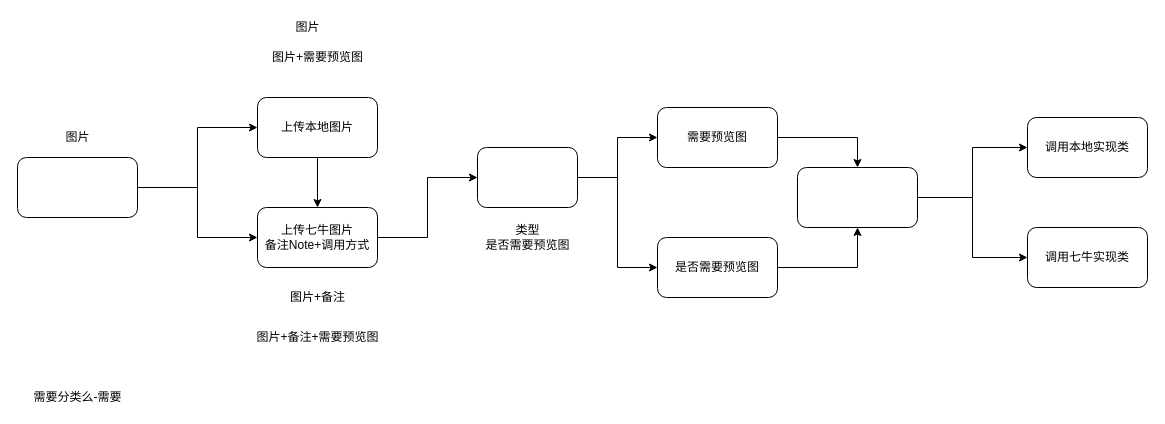
Some shapes in this 1165 by 424 pixel diagram are drawn without their labels. Each missing label, with the centre of its shape:
上传图片: the point at 77,187
公共: the point at 527,177
公共类: the point at 857,197
